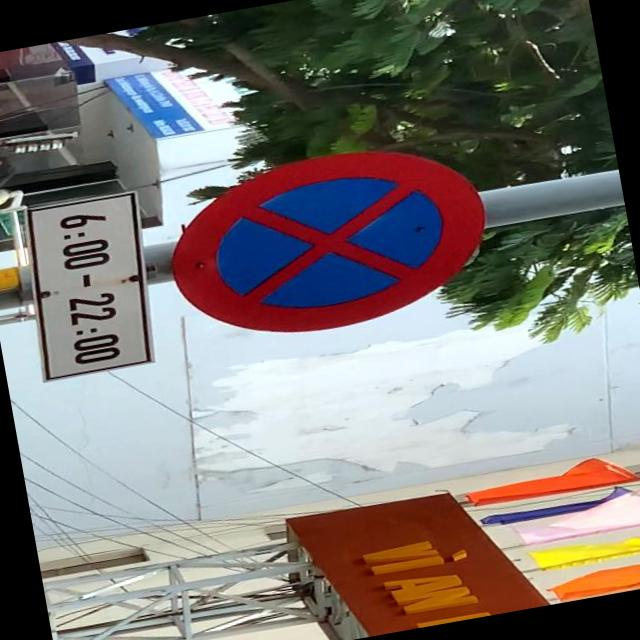P-130: (156, 134, 498, 355)
